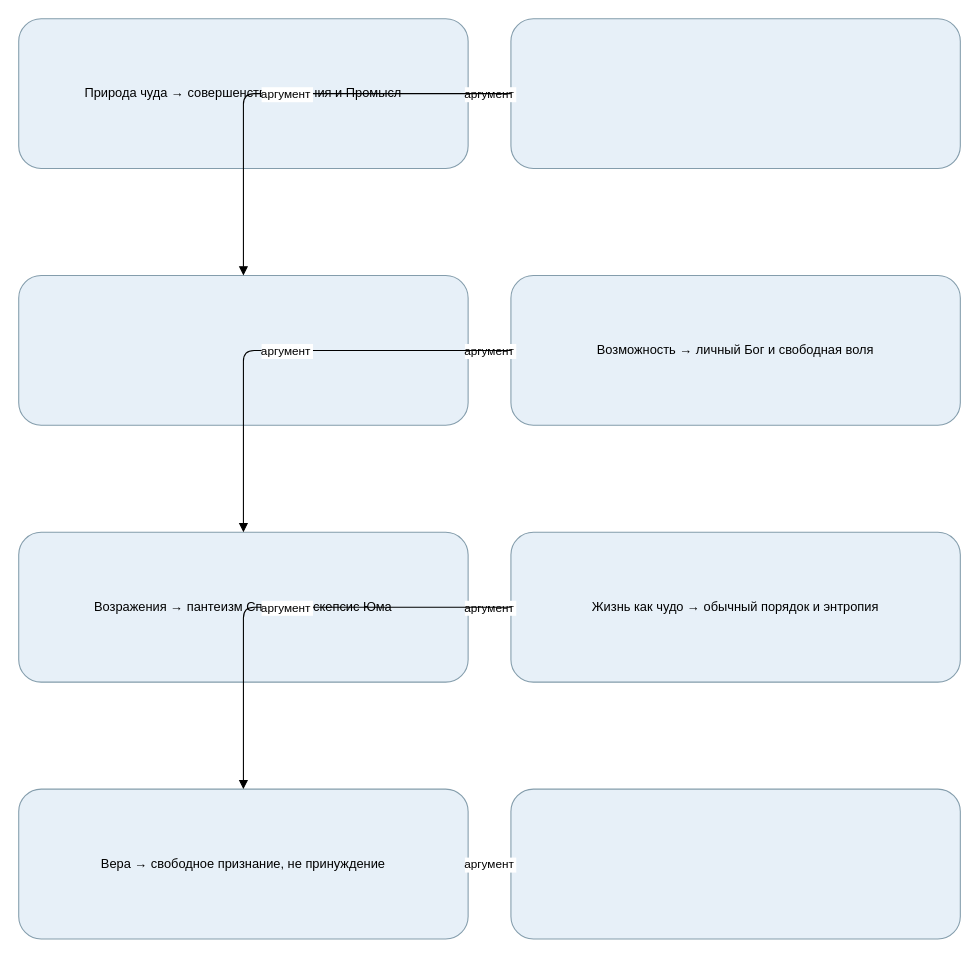
This 979x958 diagram has some shape labels left out. The centre of each missing label's shape, as x and y in pixels:
"Лейбниц → нарушение закона; Льюис → иная комбинация" goes at [243,349].
"Определение → редкость недостаточна; событие и закон" goes at [735,93].
"Различение → истинное спасительное и ложное обольщающее" goes at [735,863].
